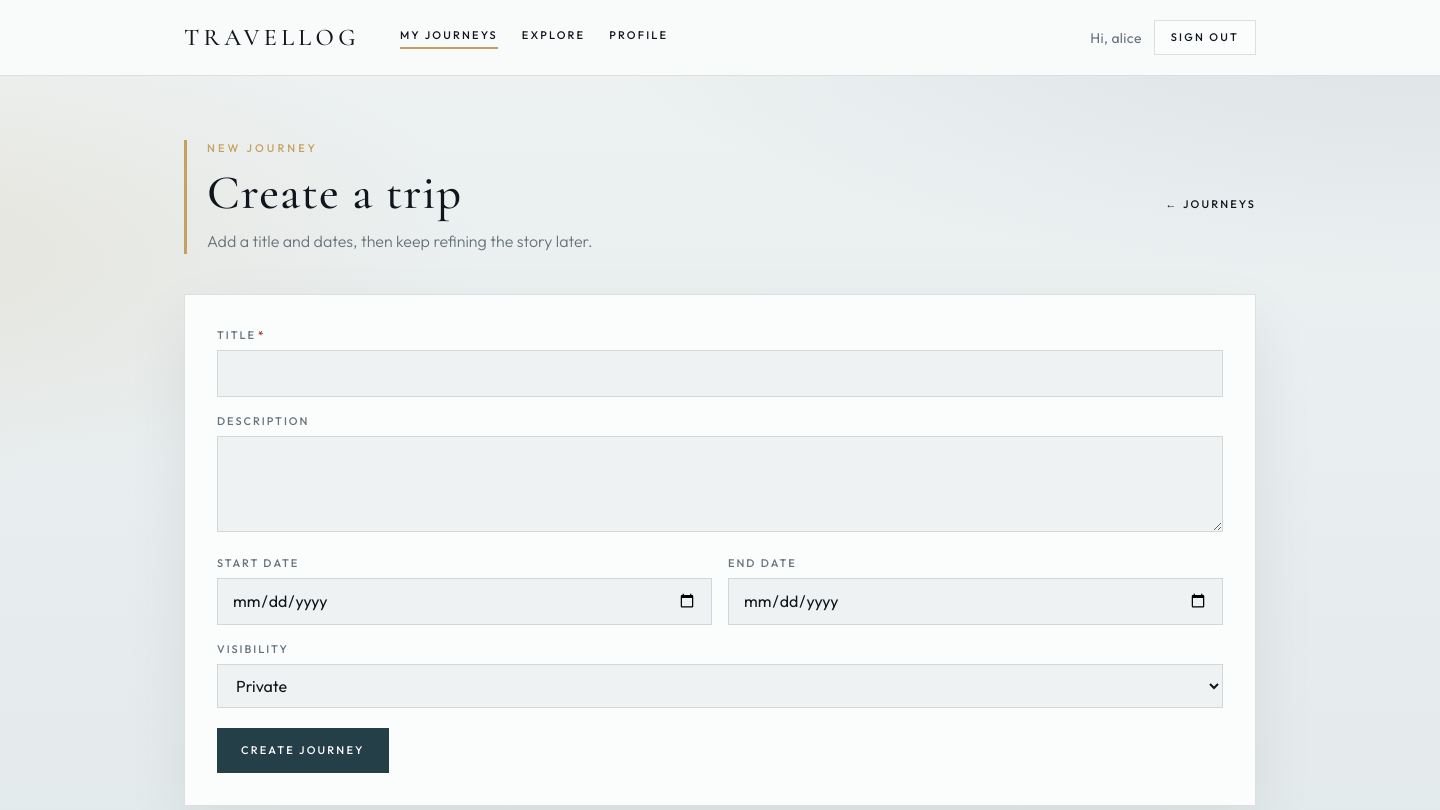
Test: JourneyCreatePage › creates a journey and returns to the list
expect the heading "Create a trip" is shown: met, box x1=207 y1=169 x2=462 y2=217
Type "South Island" into the field labelled "Title*" at (720, 373), box x1=217 y1=350 x2=1223 y2=397
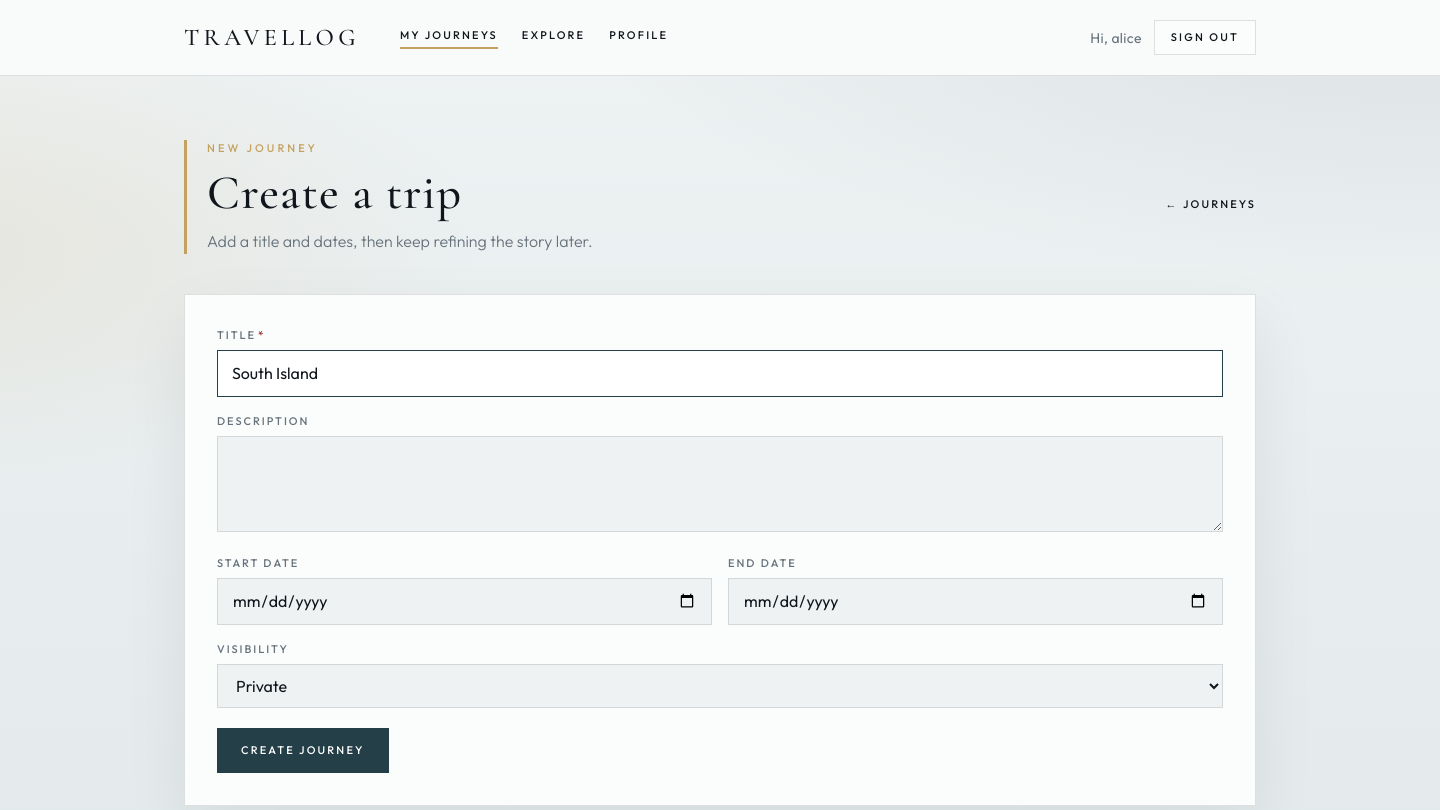
Type "Road trip" into the text box labelled "Description" at (720, 484), box x1=217 y1=436 x2=1223 y2=532
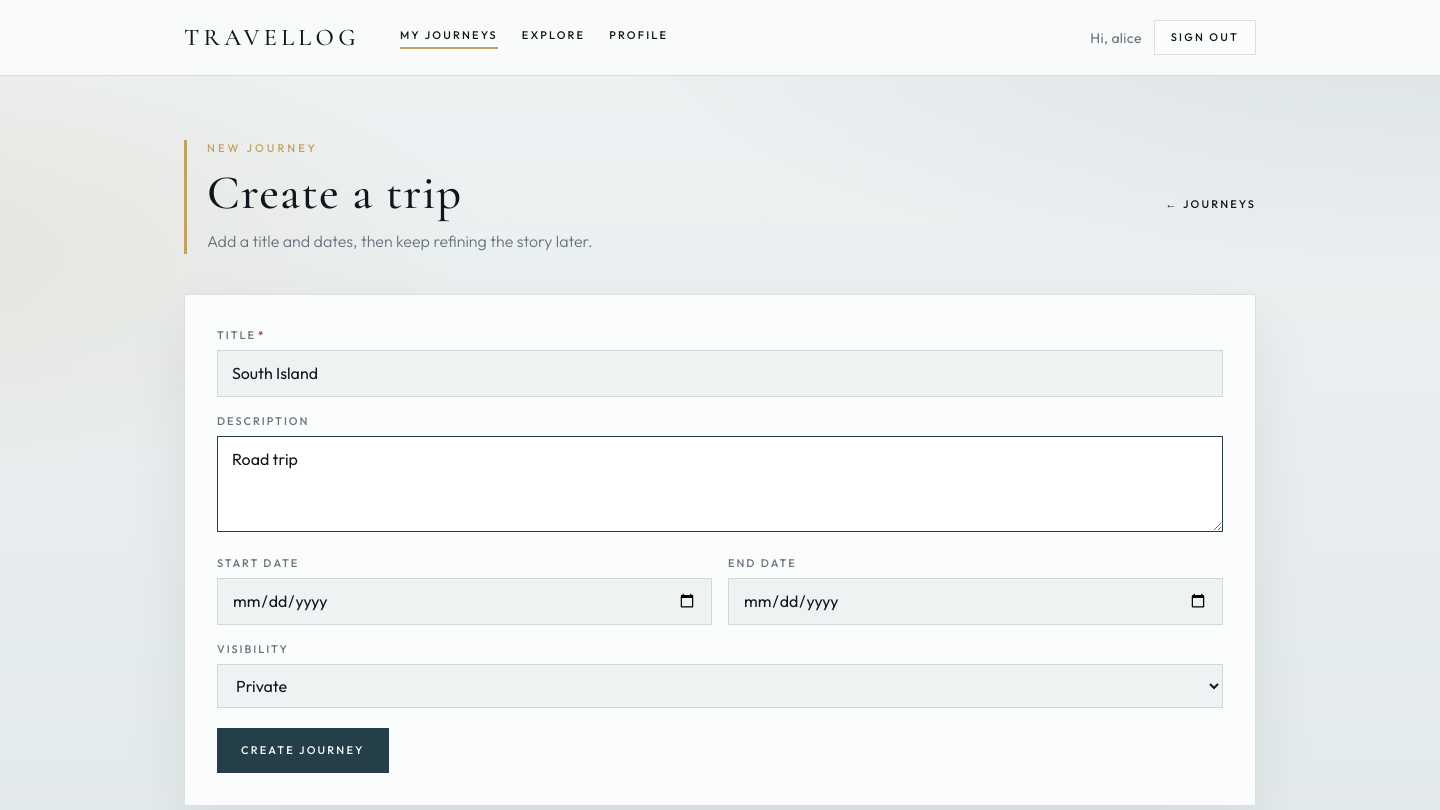
Click the button "Create journey" at (303, 750), box x1=217 y1=728 x2=388 y2=773
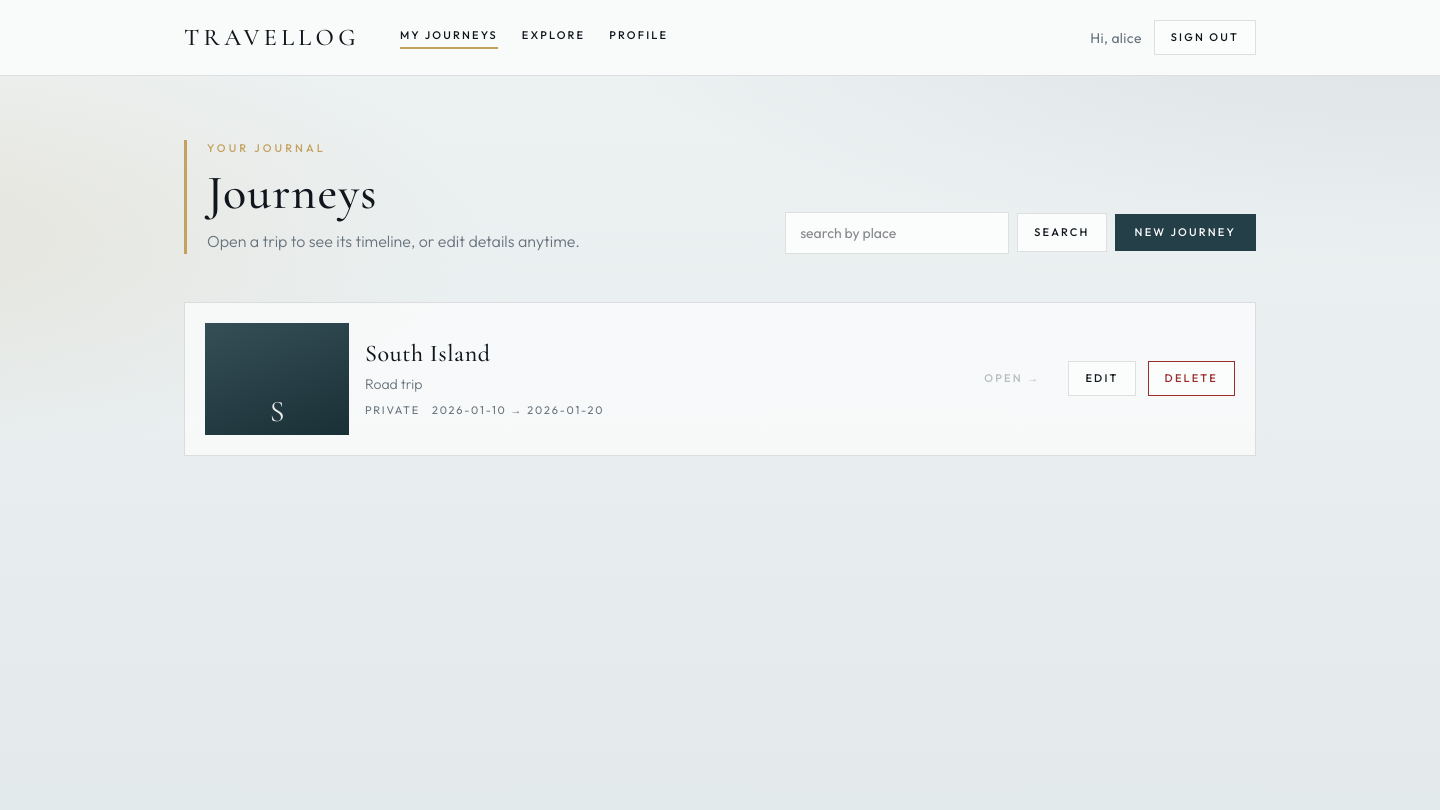
expect the heading "Journeys" is shown: met, box x1=207 y1=164 x2=378 y2=222
